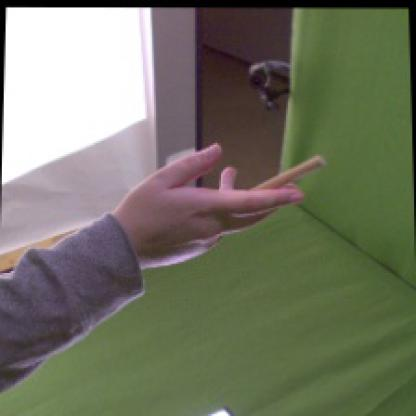Hand: (120, 144, 306, 268)
